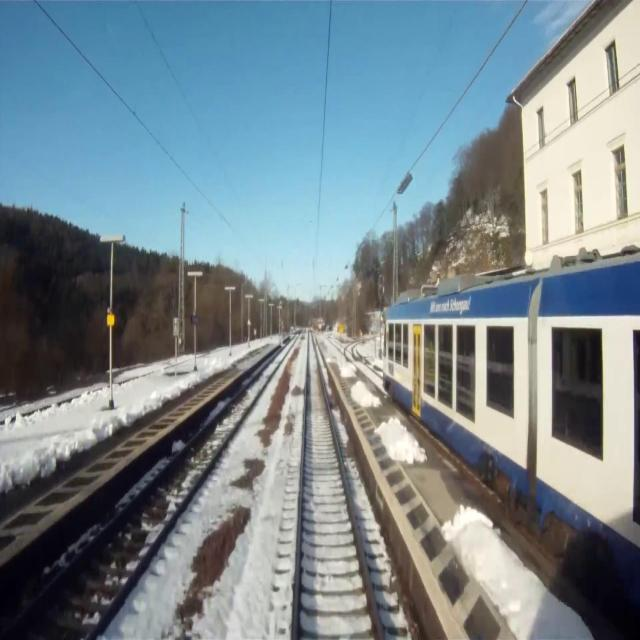rail-track: (3, 337, 295, 639), (298, 335, 378, 639), (346, 353, 383, 387)
